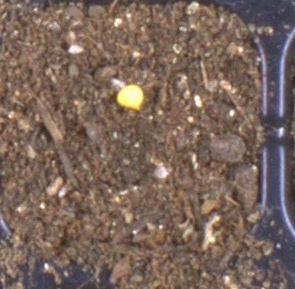chilli seed: (116, 84, 144, 111)
